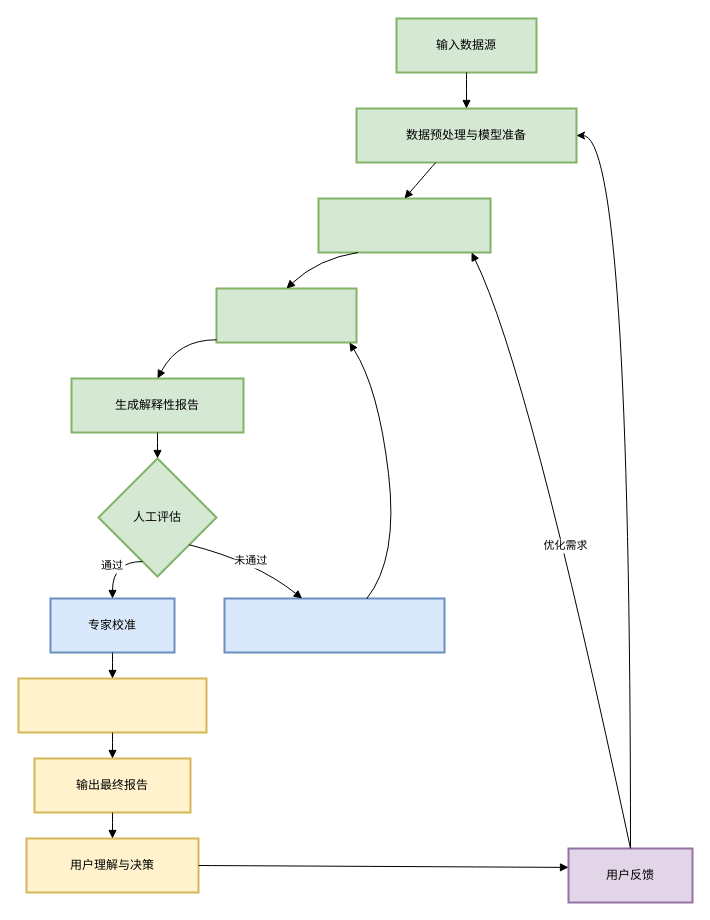
Some shapes in this 710 by 920 pixel diagram are drawn without their labels. The centre of each missing label's shape, as x and y in pixels:
"大模型微调" goes at pixel 286 315.
"强化学习动态调整" goes at pixel 112 705.
"构建提示词工程" goes at pixel 404 225.
"调整提示词或模型参数" goes at pixel 334 625.
